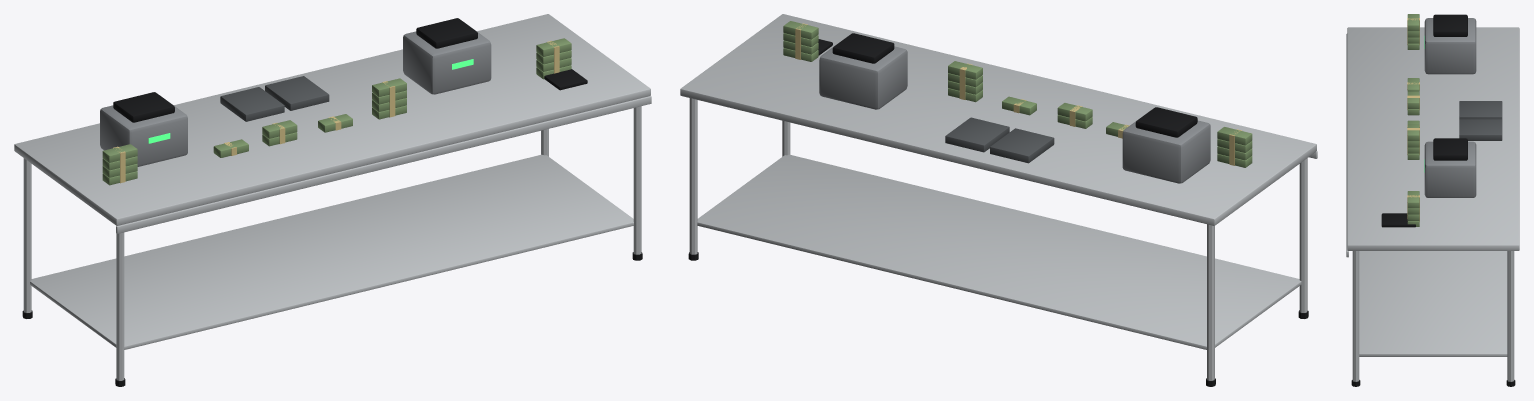
The model's file is tideline_count_table.glb.
3 views of the same model, side by side, from view 1: azimuth 30°, elevation 25°; view 2: azimuth 150°, elevation 25°; view 3: azimuth 270°, elevation 25° (orthographic). The views are drawn at different scales.
Parts seen in each view (by area): view 1: tideline_count_table; view 2: tideline_count_table; view 3: tideline_count_table.
Boxes of the visible parts, <box> form: tideline_count_table: <box>14,14,651,386</box>; tideline_count_table: <box>680,14,1317,386</box>; tideline_count_table: <box>1346,14,1519,386</box>.
Bounding box in the file's own units: 3 × 1.18 × 1.
